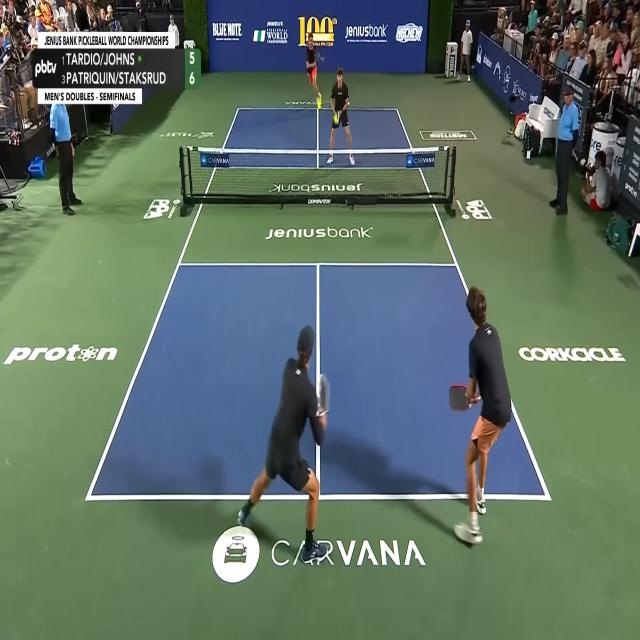ball: (333, 113, 338, 123)
